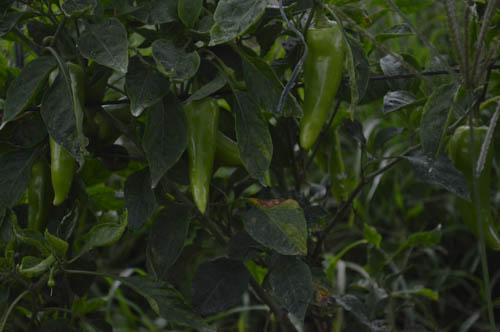ChiliPepper: (300, 31, 344, 147), (454, 126, 493, 242), (182, 101, 217, 212), (24, 163, 51, 229), (50, 140, 74, 203), (216, 135, 245, 164)
